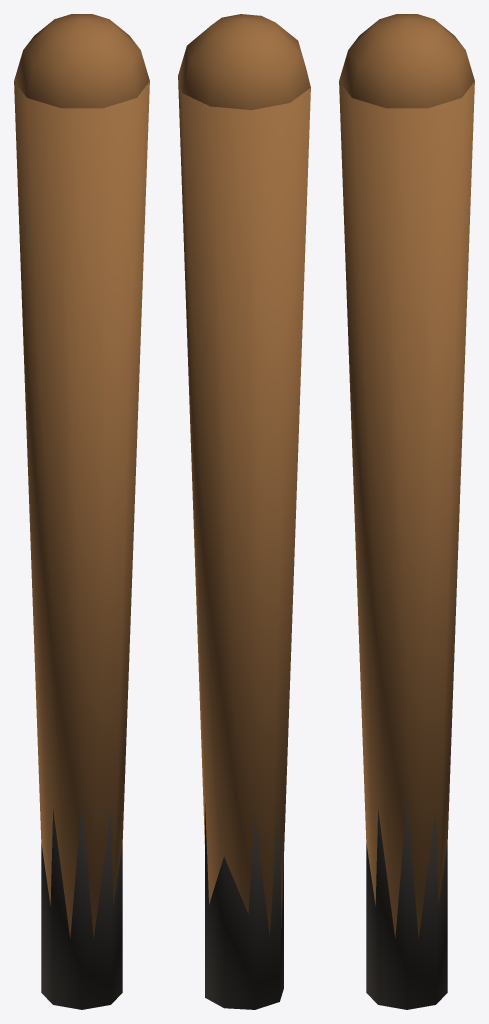
The model's file is weapon_pentungan.glb.
3 views of the same model, side by side, from view 1: azimuth 90°, elevation 25°; view 2: azimuth 150°, elevation 25°; view 3: azimuth 270°, elevation 25° (orthographic).
Parts seen in each view (by area): view 1: pickup_pentungan; view 2: pickup_pentungan; view 3: pickup_pentungan.
Part boxes in pixels (x1,y1,x2,y2): pickup_pentungan: [14, 14, 149, 1009]; pickup_pentungan: [178, 14, 310, 1009]; pickup_pentungan: [339, 14, 474, 1009].
Size of the model in its own units: 0.0951 by 0.79 by 0.1.
